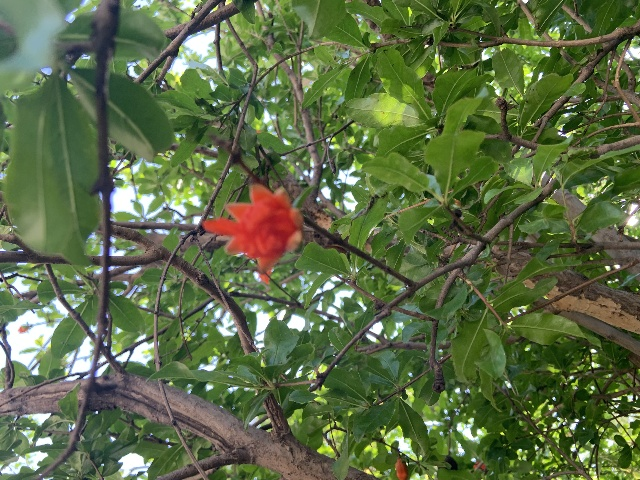bud: (395, 457, 407, 480)
flower: (202, 183, 304, 279)
